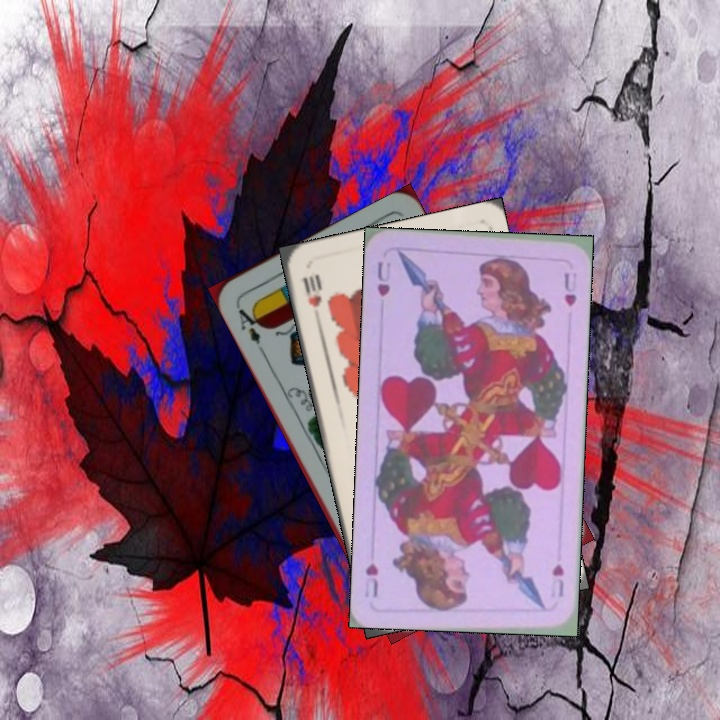EA: (232, 300, 266, 347)
H10: (299, 270, 324, 310)
HU: (373, 258, 393, 299), (548, 560, 566, 599)
